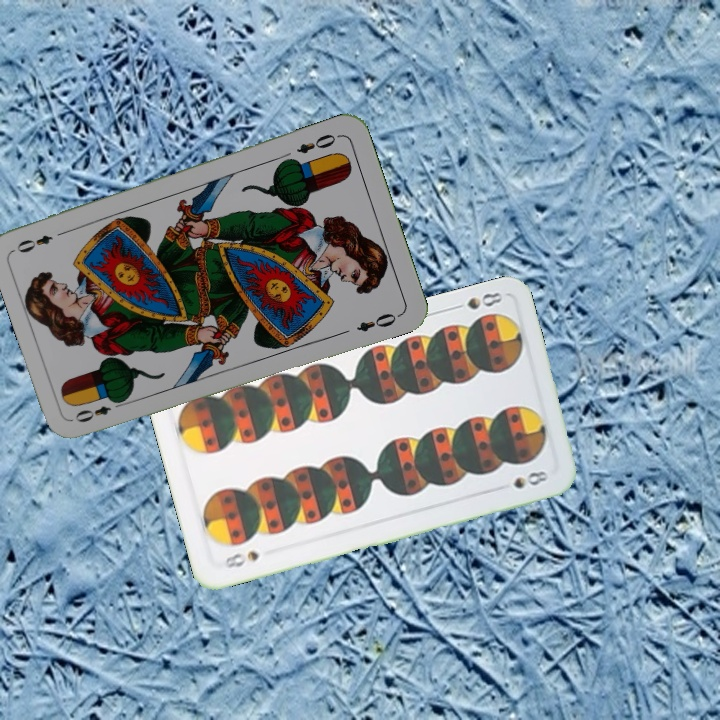EO: (71, 395, 127, 425), (292, 129, 343, 156)
S8: (447, 288, 505, 313), (220, 547, 261, 571)
